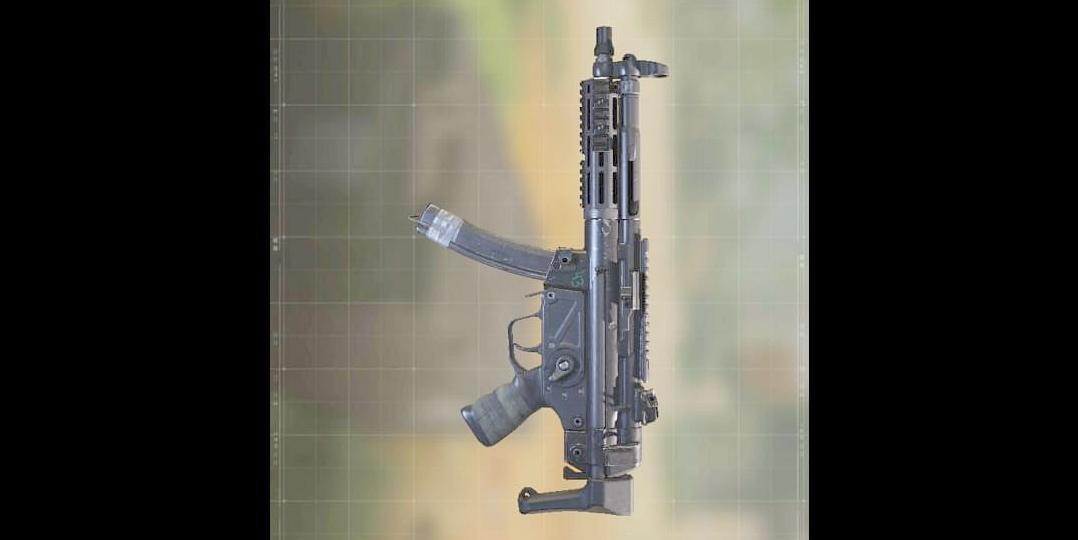gun: (407, 26, 670, 517)
